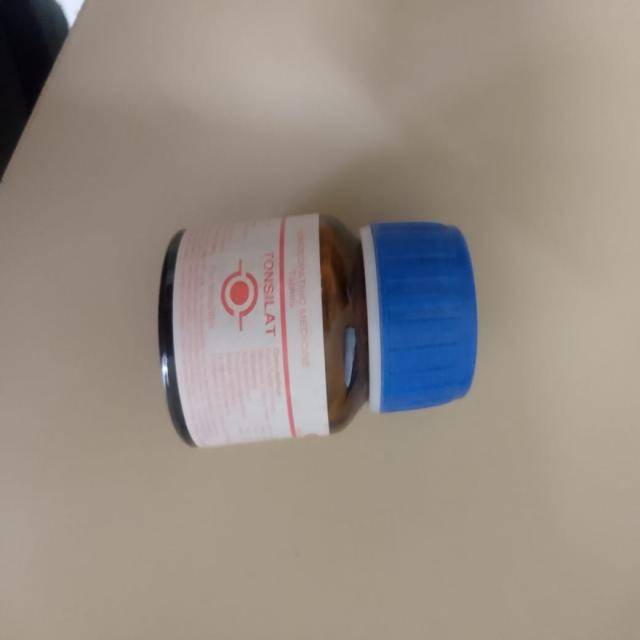medicine: (143, 199, 495, 462)
